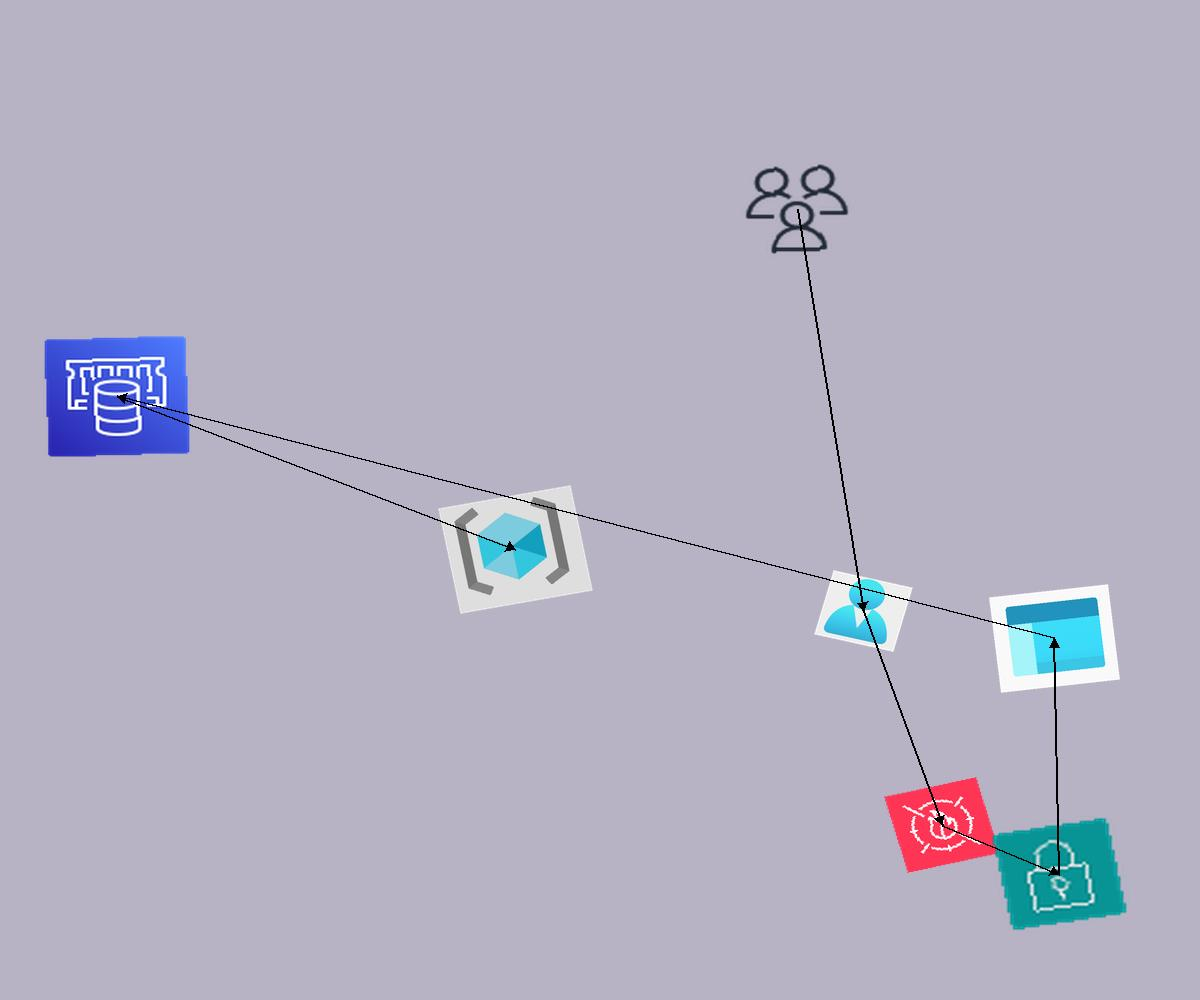AWS-ElastiCache: (43, 335, 191, 458)
AWS-Private-subnet: (990, 816, 1129, 932)
AWS-Res_Users: (737, 159, 857, 259)
AWS-WAF: (884, 777, 1000, 873)
Azure_management-portal: (989, 584, 1120, 693)
Azure_resource_group: (438, 485, 593, 614)
Azure_users: (814, 570, 913, 652)
